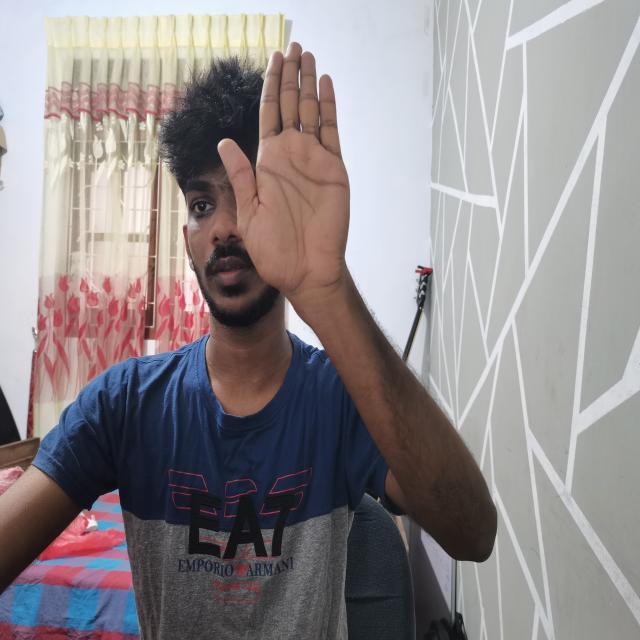Hello: (212, 17, 372, 320)
